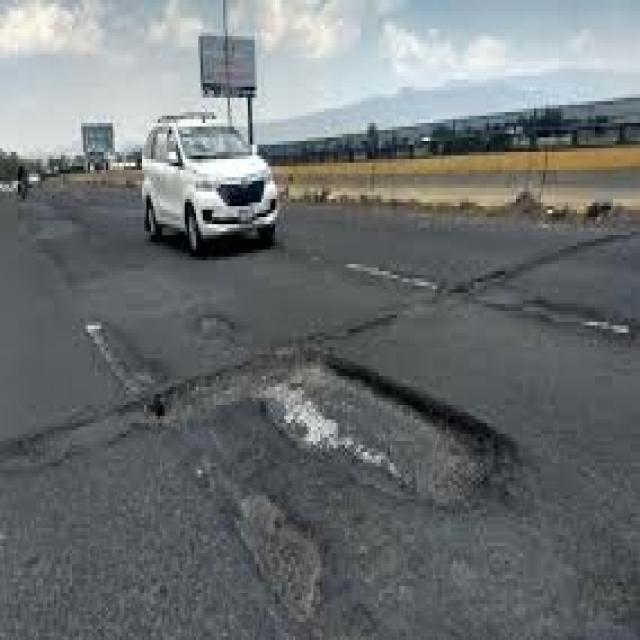Pothole: (113, 332, 563, 632)
